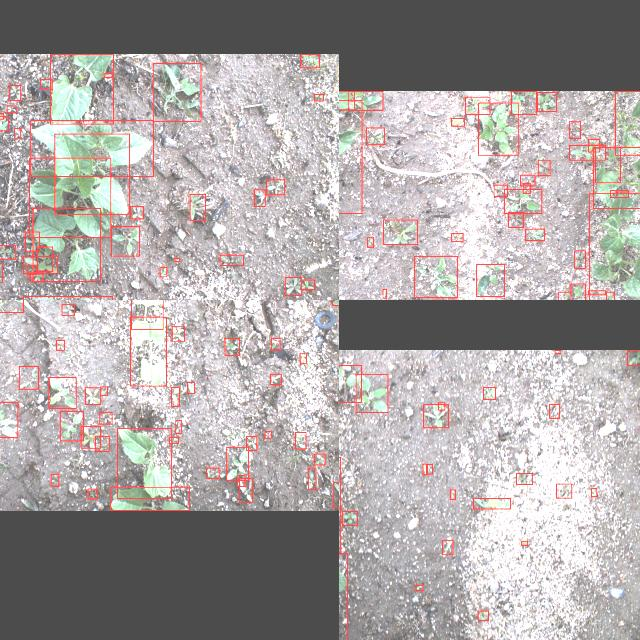crop: (30, 120, 154, 176), (30, 157, 110, 237), (54, 132, 130, 214), (589, 192, 640, 300), (33, 207, 101, 281), (50, 53, 114, 123), (117, 428, 171, 498), (593, 146, 640, 207), (130, 316, 166, 386), (110, 486, 190, 510), (615, 90, 640, 154), (131, 300, 162, 328), (339, 91, 353, 109)
weed: (153, 62, 201, 120), (478, 102, 518, 154), (414, 255, 458, 297), (356, 372, 388, 412), (504, 188, 542, 214), (477, 264, 505, 296), (48, 377, 76, 408), (382, 220, 418, 244), (596, 146, 620, 182), (111, 226, 139, 256), (339, 364, 361, 401), (227, 446, 249, 480), (61, 411, 84, 441), (349, 90, 383, 110), (0, 401, 18, 437), (24, 255, 58, 272), (512, 90, 536, 114), (569, 144, 605, 160), (424, 404, 448, 426), (81, 426, 101, 448), (190, 193, 206, 220), (466, 96, 490, 114), (20, 366, 38, 388), (474, 498, 511, 508), (38, 246, 52, 272), (284, 277, 302, 295), (366, 126, 384, 144), (538, 92, 556, 110), (24, 232, 40, 250), (240, 478, 252, 502), (300, 53, 320, 67), (0, 300, 23, 312), (85, 388, 101, 404), (224, 338, 240, 354), (570, 283, 585, 300), (266, 180, 284, 194), (220, 255, 244, 265), (508, 212, 524, 226), (342, 511, 358, 525), (556, 483, 572, 497), (574, 250, 586, 268), (526, 228, 544, 240), (0, 245, 15, 259), (253, 188, 264, 206), (95, 436, 109, 450), (627, 349, 640, 364), (9, 84, 21, 100), (538, 159, 550, 175), (520, 174, 536, 186), (570, 120, 580, 138), (308, 467, 316, 489), (517, 472, 533, 483), (130, 206, 144, 218), (494, 184, 508, 196), (588, 138, 600, 152), (172, 326, 184, 340), (171, 386, 179, 406), (296, 432, 306, 448), (442, 540, 453, 554), (333, 482, 339, 507), (62, 303, 74, 315), (100, 412, 112, 424), (483, 386, 495, 398), (247, 436, 257, 450), (550, 403, 560, 417), (207, 468, 220, 478), (610, 190, 628, 197), (0, 115, 8, 130), (40, 78, 52, 88), (302, 279, 314, 289), (270, 374, 282, 384), (557, 291, 570, 300), (314, 454, 324, 464), (88, 489, 98, 499), (478, 610, 488, 620), (30, 272, 42, 280), (452, 117, 464, 125), (451, 233, 463, 241), (272, 337, 280, 349), (51, 474, 59, 486), (238, 474, 245, 486), (100, 386, 108, 396), (56, 339, 64, 349), (606, 291, 614, 300), (588, 290, 606, 294), (160, 267, 167, 277), (188, 382, 195, 392), (28, 266, 36, 274), (7, 105, 16, 112), (15, 127, 21, 137), (314, 94, 324, 100), (367, 237, 373, 247), (524, 183, 530, 193), (300, 353, 306, 363), (450, 489, 456, 499), (170, 437, 178, 443), (176, 420, 180, 432), (265, 430, 271, 438), (423, 462, 427, 473), (383, 288, 387, 298), (428, 463, 432, 473), (416, 584, 422, 590), (522, 540, 528, 546), (438, 402, 444, 408), (104, 73, 112, 77), (592, 488, 596, 496), (174, 257, 180, 261), (0, 112, 3, 117), (555, 350, 561, 352)
